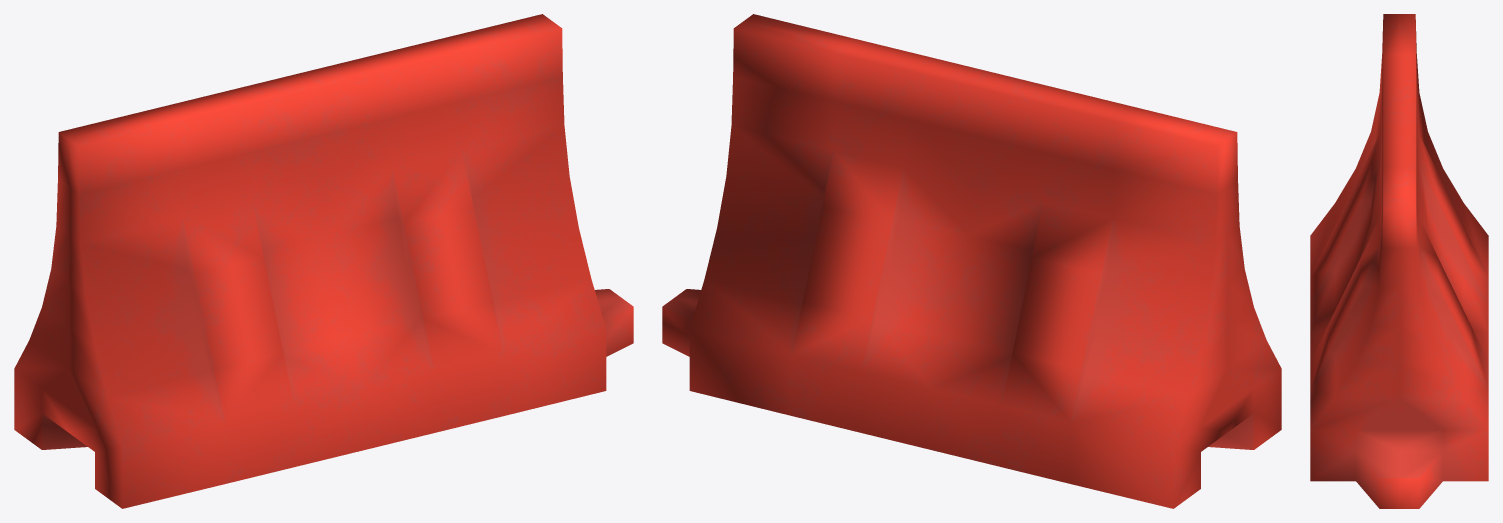
Rendered from Road barrier.glb.
3 views of the same model, side by side, from view 1: azimuth 30°, elevation 25°; view 2: azimuth 150°, elevation 25°; view 3: azimuth 270°, elevation 25° (orthographic). The views are drawn at different scales.
Visible parts, largest first — view 1: block_red; view 2: block_red; view 3: block_red.
Boxes of the visible parts, box(x1,y1,x2,y2) form: block_red: box(14, 14, 633, 508); block_red: box(662, 14, 1281, 508); block_red: box(1310, 14, 1488, 508).
Bounding box in the file's own units: 2.63 × 1.5 × 0.8904.
1 material, 1 textured.
